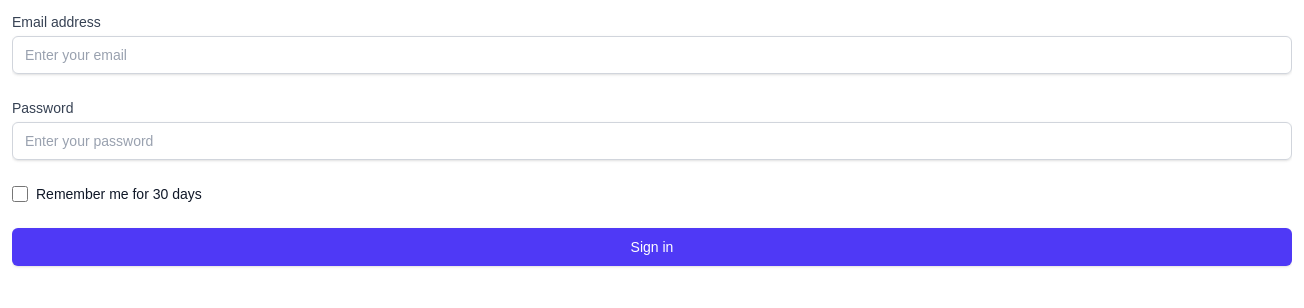
Test: LoginForm › should show validation error for invalid email
Type "invalid-email" into the field labelled "Email address". click: [652, 55]
box: [12,36,1292,74]
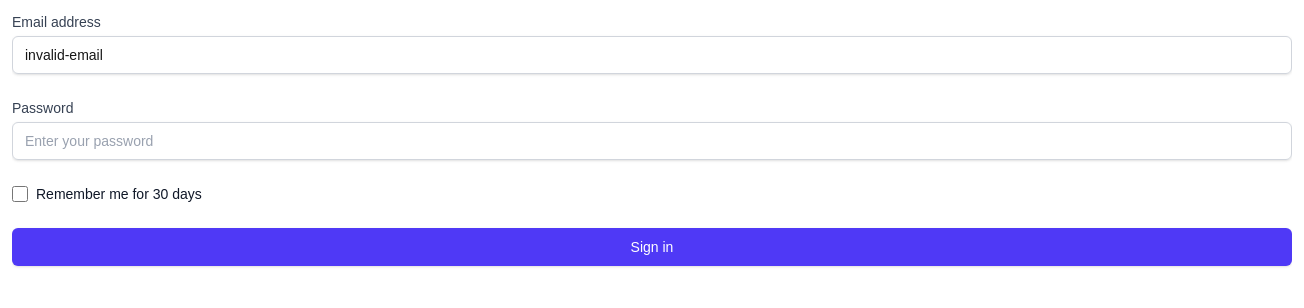
Type "validpassword" into the password field labelled "Password". click: [652, 141]
box: [12,122,1292,160]
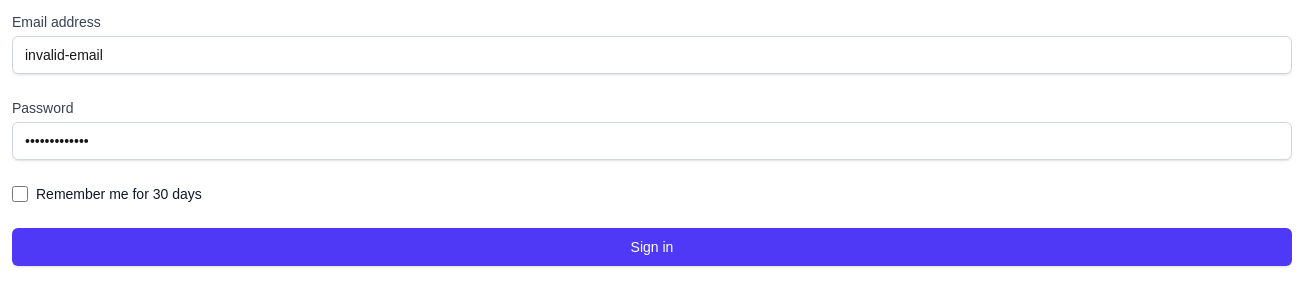
Click the button "Sign in". click: [652, 247]
box: [12,228,1292,266]
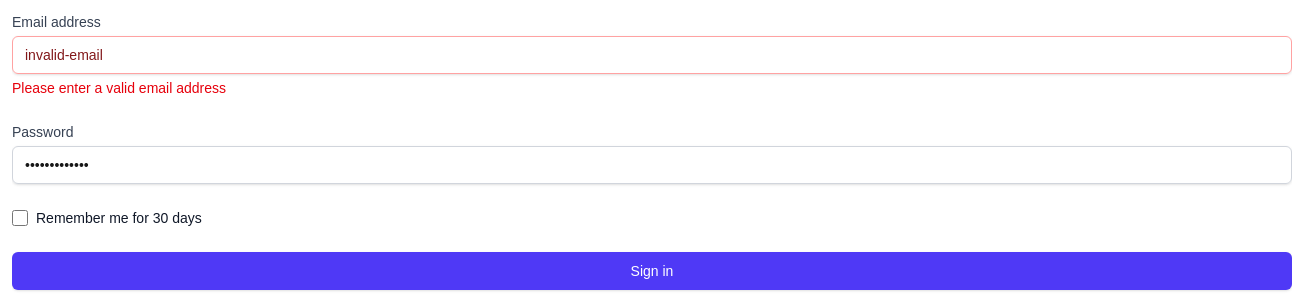
Expected: the text "Please enter a valid email address" is shown, [12,80,226,96]
